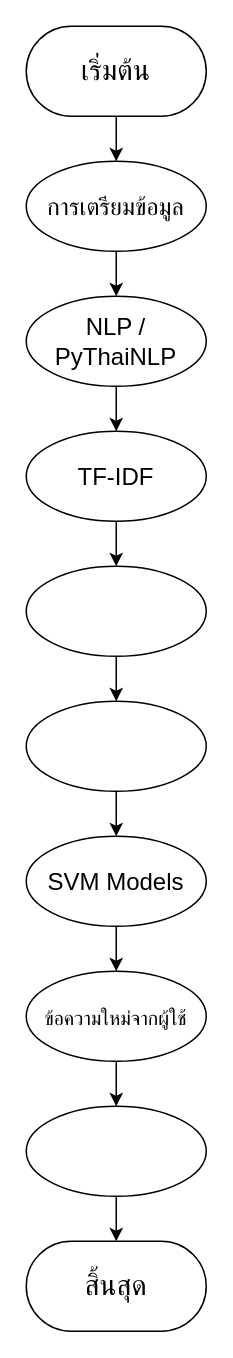
The diagram is 233 pixels wide and 1358 high, and some of its shapes have lost their labels. The shapes that lost their labels are listed below. From the top down, each one's centre as x and y in pixels, then its label:
At [115,610]: "Training Data + Label Data".
At [115,745]: "Model Training".
At [115,1150]: "Classification".
